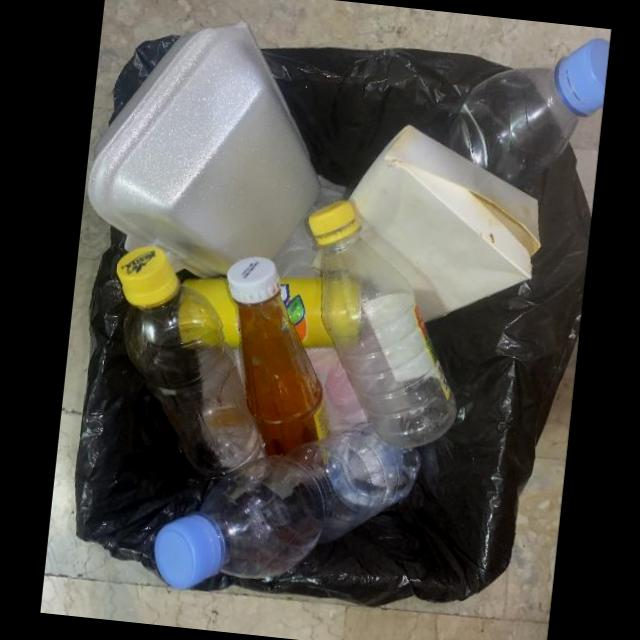carton: (348, 124, 541, 323)
chai_nhua_pet: (153, 421, 422, 590), (307, 199, 459, 448), (114, 245, 266, 476), (437, 39, 607, 185)
chai_thuy_tinh: (225, 256, 331, 457)
xop: (85, 19, 318, 279)
